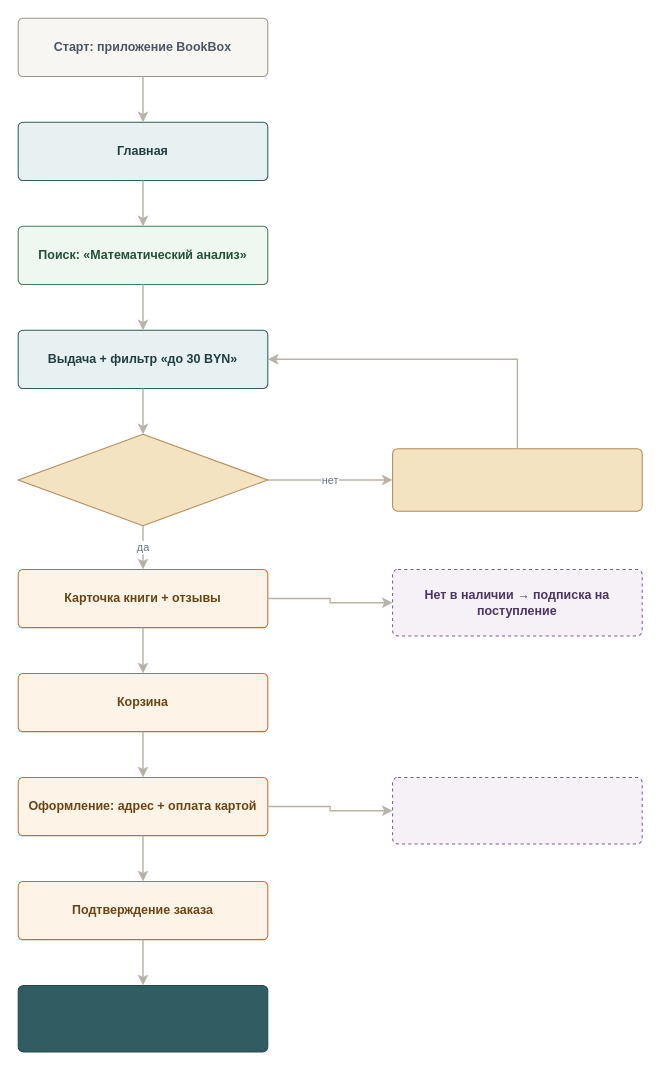
Some shapes in this 660 by 1070 pixel diagram are drawn without their labels. Here are the shapes that lost their labels. From the top down, the box of each, then its label:
(17, 433, 268, 526): Книга до 30 BYN?
(392, 448, 642, 511): Скидки студентам / поднять цену до 50 BYN
(392, 776, 642, 844): Нет интернета → офлайн-корзина, заказ позже
(17, 984, 268, 1052): Цель: заказ оплачен, push о статусе
